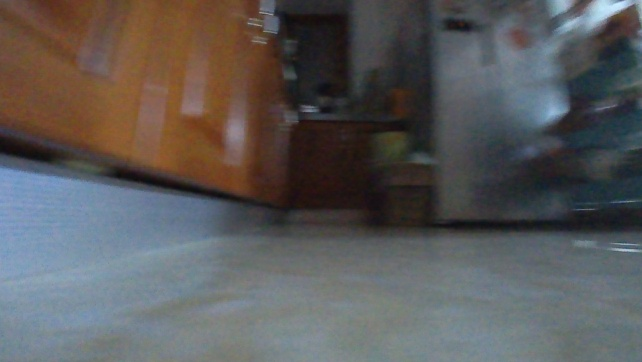cupboard: (0, 0, 405, 276)
